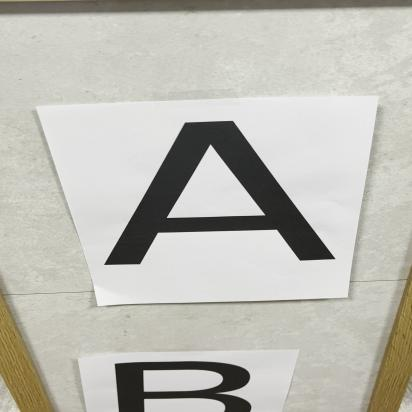seat: (79, 104, 341, 274)
